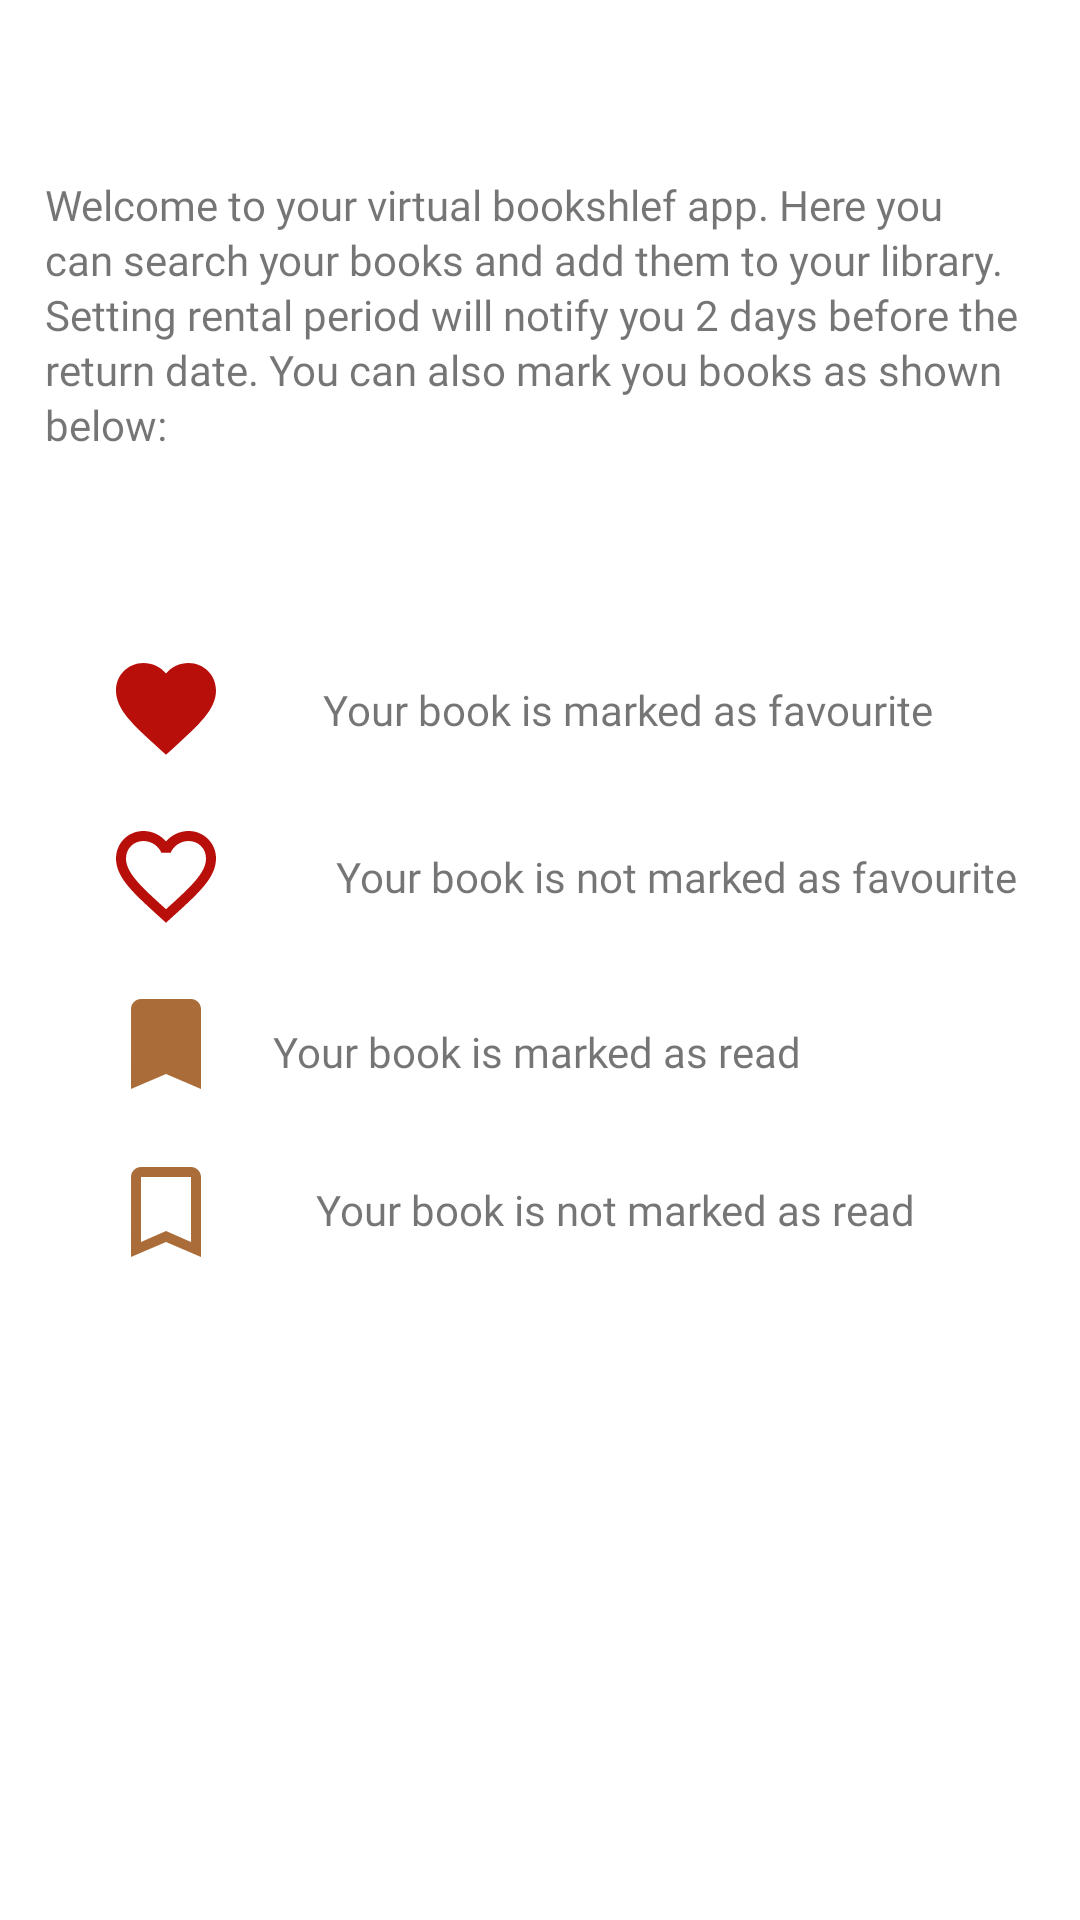

Icon click points for this 1080px×1920px phone screenshot, format [x,y]:
favorite: [166,709]
unfilledfavorite: [166,877]
unread: [166,1212]
